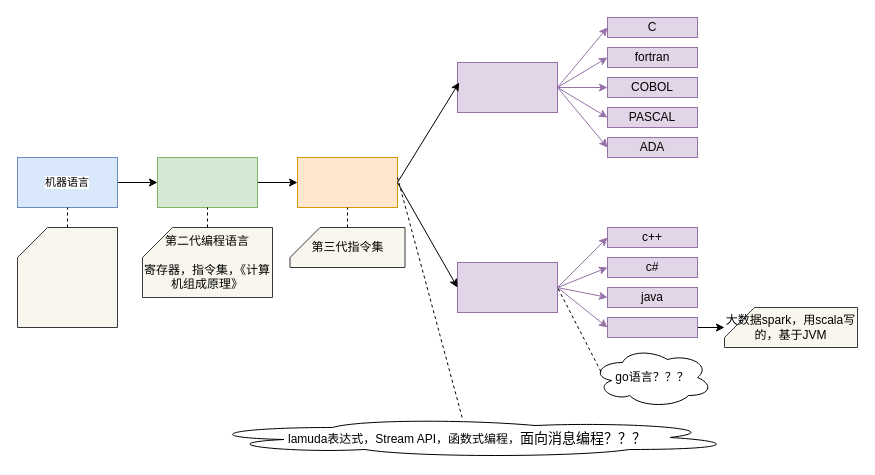
Image size: 875x475. Some labels were removed from this diagram. The centre of each missing label's shape, as x and y in pixels:
"scala" belongs at point (652, 327).
"汇编语言" belongs at point (207, 182).
"第一代编程语言 0101卡片" belongs at point (67, 277).
"面向对象" belongs at point (507, 287).
"面向过程" belongs at point (507, 87).
"高级语言" belongs at point (347, 182).
